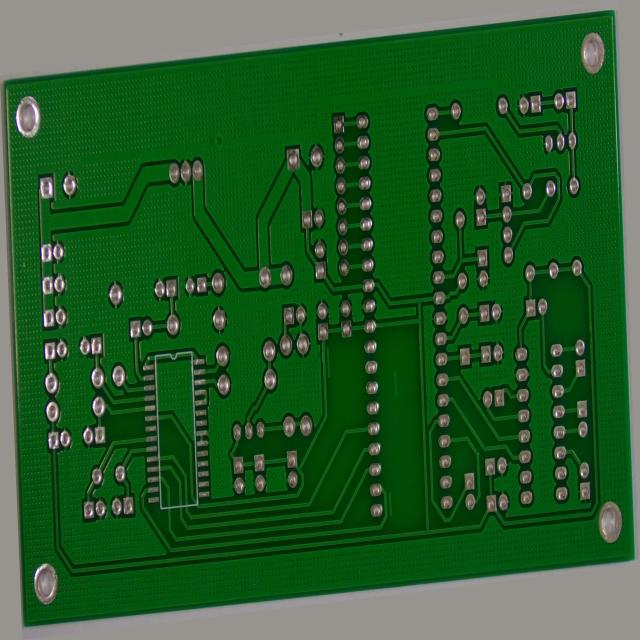spurious_copper: (390, 382, 402, 421), (381, 519, 390, 555), (324, 349, 332, 388)
